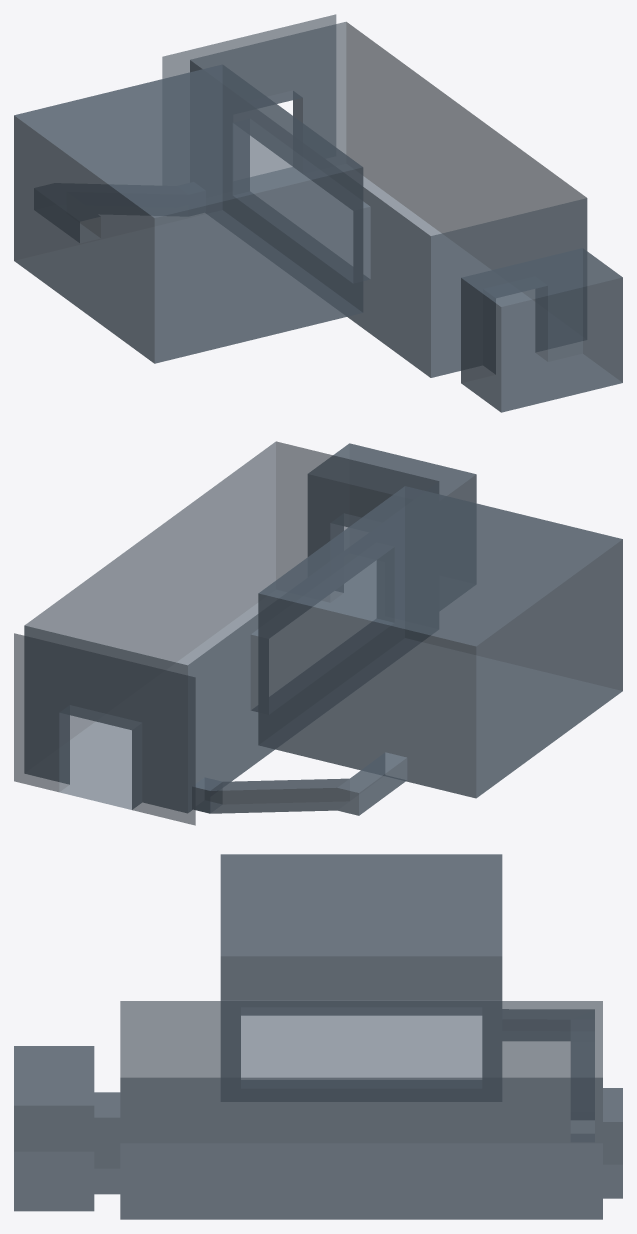
Rendered from lvl_1_blockout.FBX.
3 views of the same model, one above another, from view 1: azimuth 30°, elevation 25°; view 2: azimuth 150°, elevation 25°; view 3: azimuth 270°, elevation 25° (orthographic). The views are drawn at different scales.
Parts seen in each view (by area): view 1: Lvl_1_blockout; view 2: Lvl_1_blockout; view 3: Lvl_1_blockout.
Boxes of the visible parts, x1,y1,x2,y2 form: Lvl_1_blockout: (14,14,622,412); Lvl_1_blockout: (14,441,622,825); Lvl_1_blockout: (14,854,622,1219).
Bounding box in the file's own units: 433 × 193 × 596.
